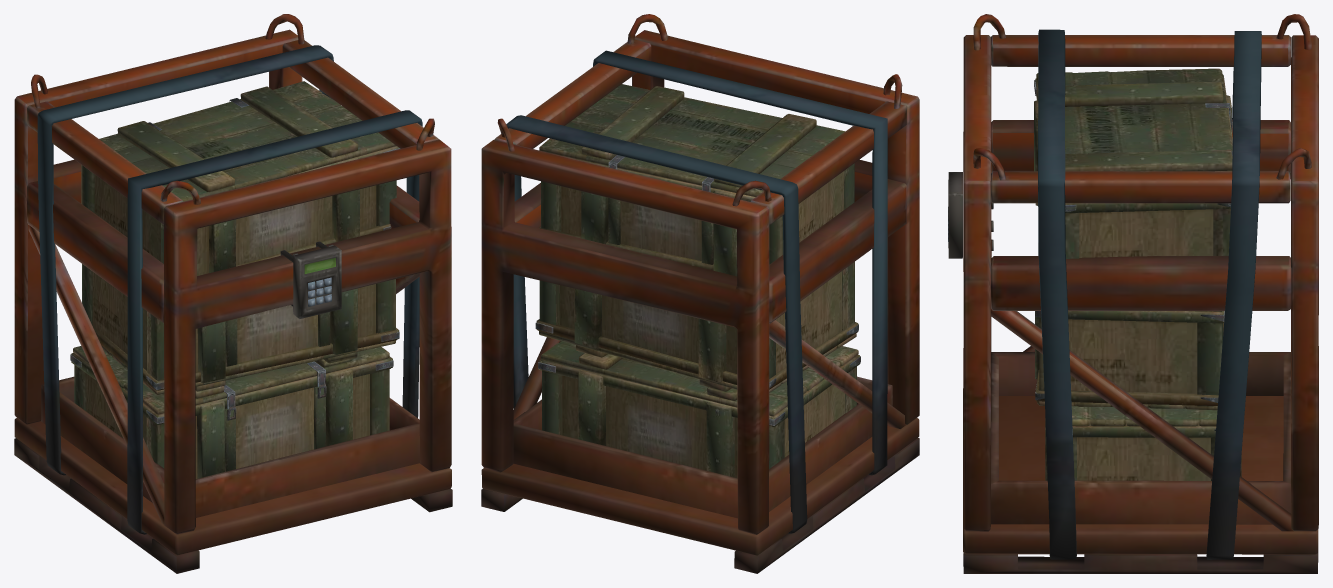
Rendered from codelockedhackablecrate.glb.
3 views of the same model, side by side, from view 1: azimuth 30°, elevation 25°; view 2: azimuth 150°, elevation 25°; view 3: azimuth 270°, elevation 25° (orthographic). The views are drawn at different scales.
Parts seen in each view (by area): view 1: ChinLockedCrateCodeLock_LOD0, wooden_crate_2 (5), wooden_crate_2 (3), wooden_crate_2 (4); view 2: ChinLockedCrateCodeLock_LOD0, wooden_crate_2 (5), wooden_crate_2 (3), wooden_crate_2 (4); view 3: ChinLockedCrateCodeLock_LOD0, wooden_crate_2 (5), wooden_crate_2 (4), wooden_crate_2 (3).
Boxes of the visible parts, x1,y1,x2,y2 form: ChinLockedCrateCodeLock_LOD0: (14, 14, 452, 573); wooden_crate_2 (5): (81, 81, 400, 275); wooden_crate_2 (3): (70, 346, 393, 478); wooden_crate_2 (4): (82, 264, 399, 394); ChinLockedCrateCodeLock_LOD0: (481, 14, 919, 573); wooden_crate_2 (5): (539, 84, 854, 276); wooden_crate_2 (3): (538, 341, 860, 478); wooden_crate_2 (4): (535, 262, 858, 392); ChinLockedCrateCodeLock_LOD0: (948, 14, 1318, 573); wooden_crate_2 (5): (1034, 68, 1232, 258); wooden_crate_2 (4): (1035, 311, 1224, 410); wooden_crate_2 (3): (1045, 406, 1241, 480).
Bounding box in the file's own units: 1.22 × 1.58 × 1.27.
Materials: 2 (2 with a texture image).
